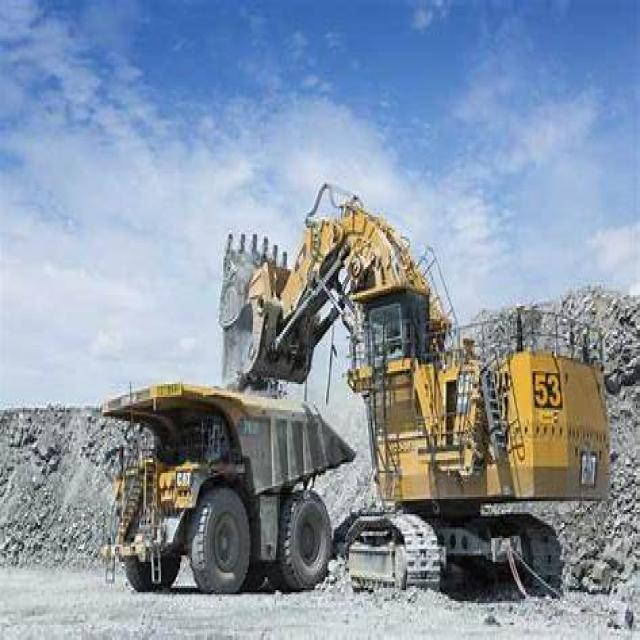dump_truck: (93, 358, 334, 633)
excavator: (218, 187, 616, 622)
